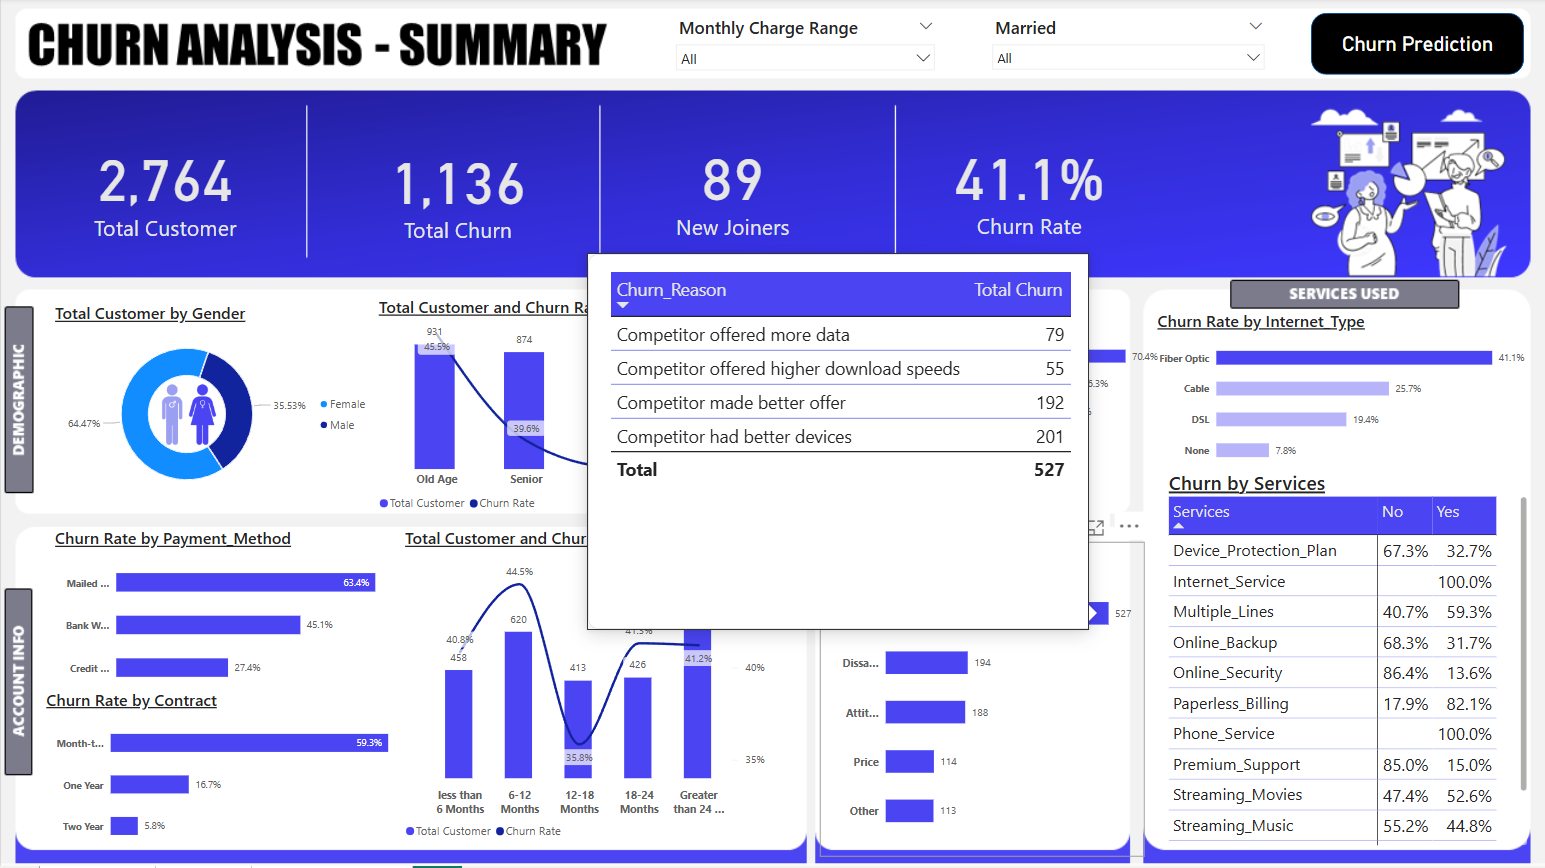

Layout of this report page (visuals, bound fields, positions):
{"tool":"powerbi","page":{"name":"Summary","canvas":[1920,1080],"ordinal":0},"visuals":[{"type":"card","fields":{"Values":["Tbl_Measures.Total Customer"]},"box":[22,104.4,364.6,262],"z":0},{"type":"card","fields":{"Values":["Tbl_Measures.Total Churn"]},"box":[386.6,108.1,362.7,258.3],"z":1000},{"type":"card","fields":{"Values":["Tbl_Measures.new joiners"]},"box":[688.9,95.3,443.4,278.5],"z":2000},{"type":"card","fields":{"Values":["Tbl_Measures.Churn Rate"]},"box":[1112.1,104.4,335.3,258.3],"z":3000},{"type":"image","box":[181.8,467.5,103.9,97.4],"z":4000},{"type":"donutChart","fields":{"Category":["prod_Churn.Gender"],"Y":["Tbl_Measures.Total Customer"]},"box":[50.9,363.1,427.3,281.2],"z":5000},{"type":"lineStackedColumnComboChart","fields":{"Category":["Mapping_groupAge.Age Group"],"Y":["Tbl_Measures.Total Customer"],"Y2":["Tbl_Measures.Churn Rate"]},"box":[454.3,355.7,547.1,302.9],"z":6000},{"type":"clusteredBarChart","fields":{"Category":["prod_Churn.Payment_Method"],"Y":["Tbl_Measures.Churn Rate"]},"box":[50.9,644.3,469.4,241.3],"z":7000},{"type":"clusteredBarChart","fields":{"Category":["prod_Churn.Contract"],"Y":["Tbl_Measures.Churn Rate"]},"box":[39.9,843.5,493.7,236.9],"z":8000},{"type":"lineStackedColumnComboChart","fields":{"Category":["Mapping_groupTenure.Tenure Group"],"Y":["Tbl_Measures.Total Customer"],"Y2":["Tbl_Measures.Churn Rate"]},"box":[487.1,644.3,482.7,422.9],"z":9000},{"type":"clusteredBarChart","title":"Churn Rate by State(Top 5)","fields":{"Category":["prod_Churn.State"],"Y":["Tbl_Measures.Churn Rate"]},"box":[1001.2,373.8,453.8,285],"z":10000},{"type":"clusteredBarChart","fields":{"Category":["prod_Churn.Churn_Category"],"Y":["Tbl_Measures.Total Churn"]},"box":[1017.5,676,404.5,391.9],"z":11000},{"type":"clusteredBarChart","fields":{"Category":["prod_Churn.Internet_Type"],"Y":["Tbl_Measures.Churn Rate"]},"box":[1422.5,373.8,491.2,231.2],"z":12000},{"type":"slicer","fields":{"Values":["prod_Churn.Monthly Charge Status"]},"box":[835.4,22,331.6,111.8],"z":13000},{"type":"slicer","fields":{"Values":["prod_Churn.Married"]},"box":[1228.3,21.7,348.3,83.3],"z":14000},{"type":"pivotTable","fields":{"Rows":["prod_Services.Services"],"Values":["prod_Churn.churn percentage row"]},"box":[1955,167.5,466.2,258.8],"z":15000},{"type":"pivotTable","title":"Churn by Services","fields":{"Columns":["prod_Services.Status"],"Rows":["prod_Services.Services"],"Values":["prod_Churn.churn percentage row"]},"box":[1435.6,571.6,477.8,497.5],"z":16000},{"type":"shape","box":[1628.3,18.3,265,76.7],"z":16001}]}

Visuals, with their boxes on the page's 1920x1080 design canvas (x1, y1, x2, y2). These are canvas units, not pixel positions in the 1545x868 screenshot, which may show the page scaled, cropped or inside an application window:
card - Tbl_Measures.Total Customer: x1=22, y1=104, x2=387, y2=366
card - Tbl_Measures.Total Churn: x1=387, y1=108, x2=749, y2=366
card - Tbl_Measures.new joiners: x1=689, y1=95, x2=1132, y2=374
card - Tbl_Measures.Churn Rate: x1=1112, y1=104, x2=1447, y2=363
image: x1=182, y1=468, x2=286, y2=565
donutChart - prod_Churn.Gender x Tbl_Measures.Total Customer: x1=51, y1=363, x2=478, y2=644
lineStackedColumnComboChart - Mapping_groupAge.Age Group x Tbl_Measures.Total Customer: x1=454, y1=356, x2=1001, y2=659
clusteredBarChart - prod_Churn.Payment_Method x Tbl_Measures.Churn Rate: x1=51, y1=644, x2=520, y2=886
clusteredBarChart - prod_Churn.Contract x Tbl_Measures.Churn Rate: x1=40, y1=844, x2=534, y2=1080
lineStackedColumnComboChart - Mapping_groupTenure.Tenure Group x Tbl_Measures.Total Customer: x1=487, y1=644, x2=970, y2=1067
"Churn Rate by State(Top 5)" clusteredBarChart: x1=1001, y1=374, x2=1455, y2=659
clusteredBarChart - prod_Churn.Churn_Category x Tbl_Measures.Total Churn: x1=1018, y1=676, x2=1422, y2=1068
clusteredBarChart - prod_Churn.Internet_Type x Tbl_Measures.Churn Rate: x1=1422, y1=374, x2=1914, y2=605
slicer - prod_Churn.Monthly Charge Status: x1=835, y1=22, x2=1167, y2=134
slicer - prod_Churn.Married: x1=1228, y1=22, x2=1577, y2=105
pivotTable - prod_Services.Services x prod_Churn.churn percentage row: x1=1955, y1=168, x2=2421, y2=426
"Churn by Services" pivotTable: x1=1436, y1=572, x2=1913, y2=1069
shape: x1=1628, y1=18, x2=1893, y2=95
